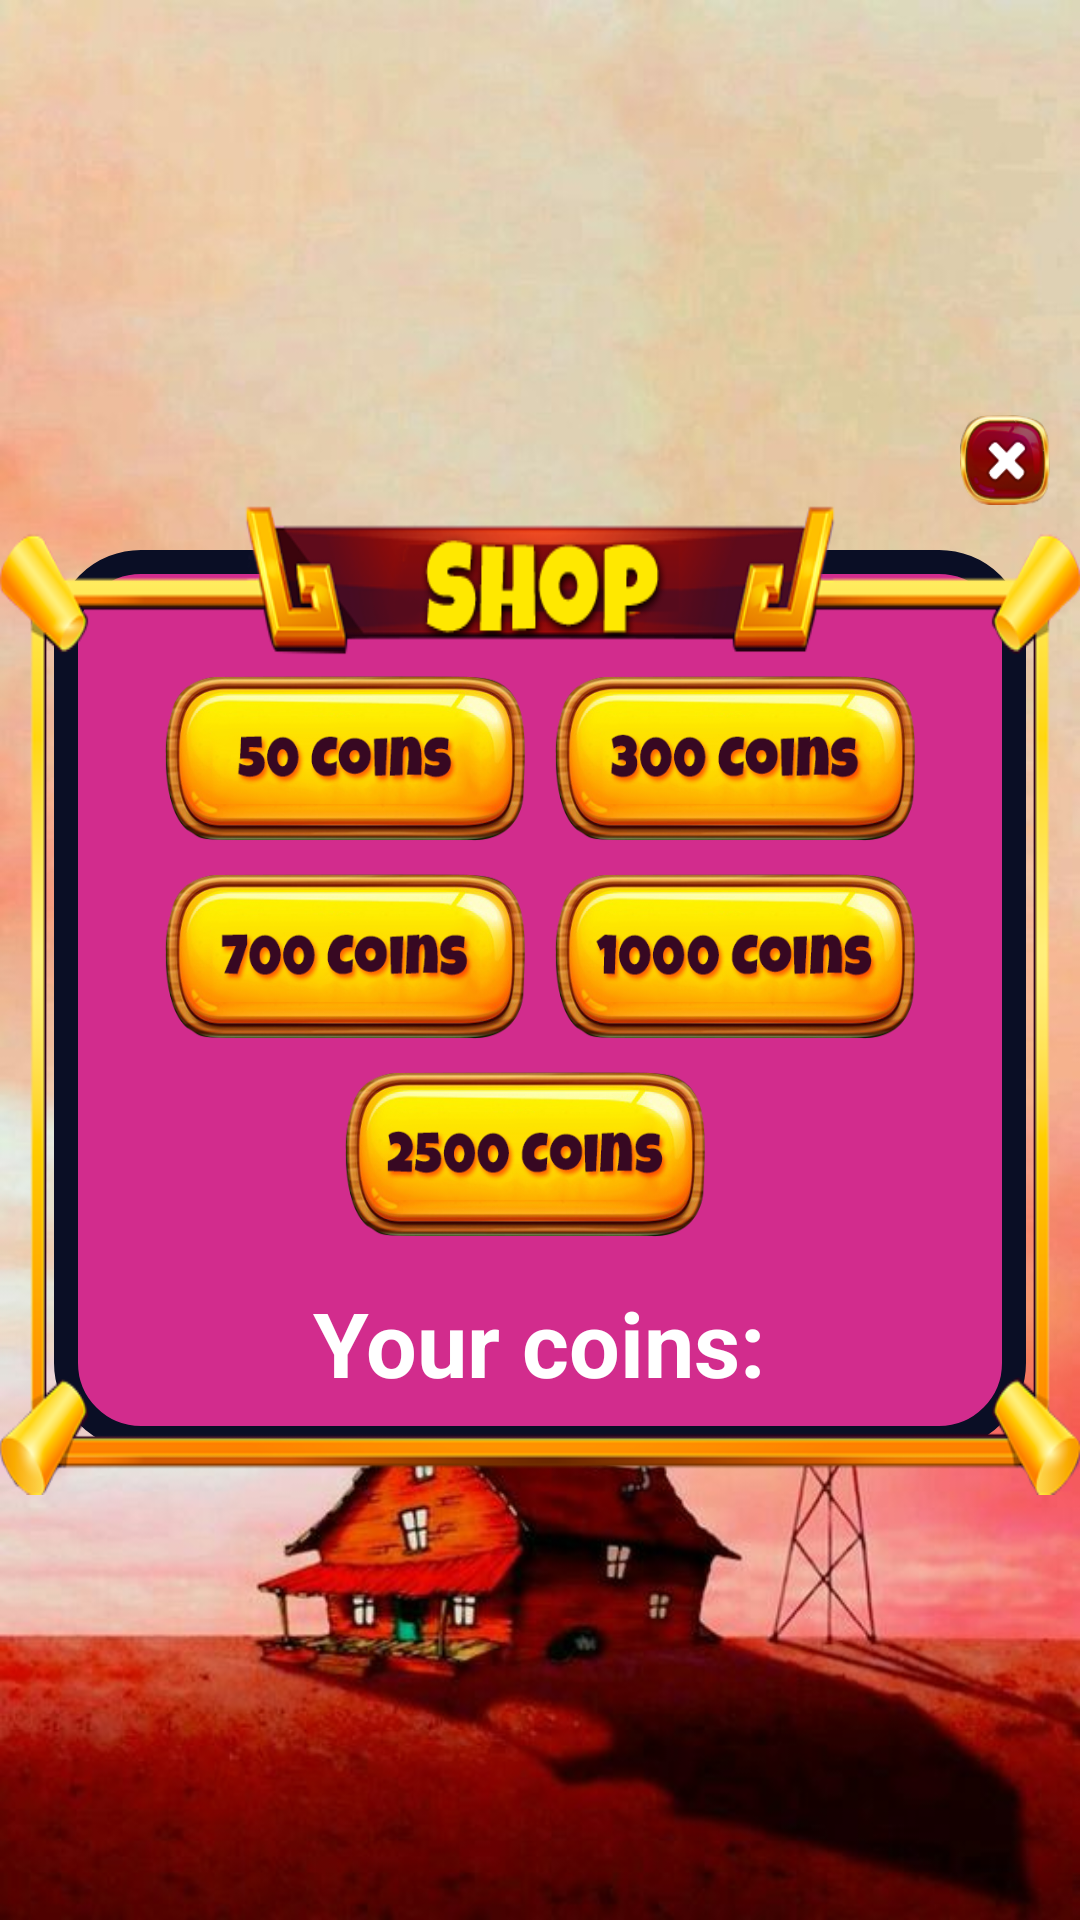

Icons on this 1080x1920 Android screen, each with the point to tap as (x,y):
close: (1005,460)
